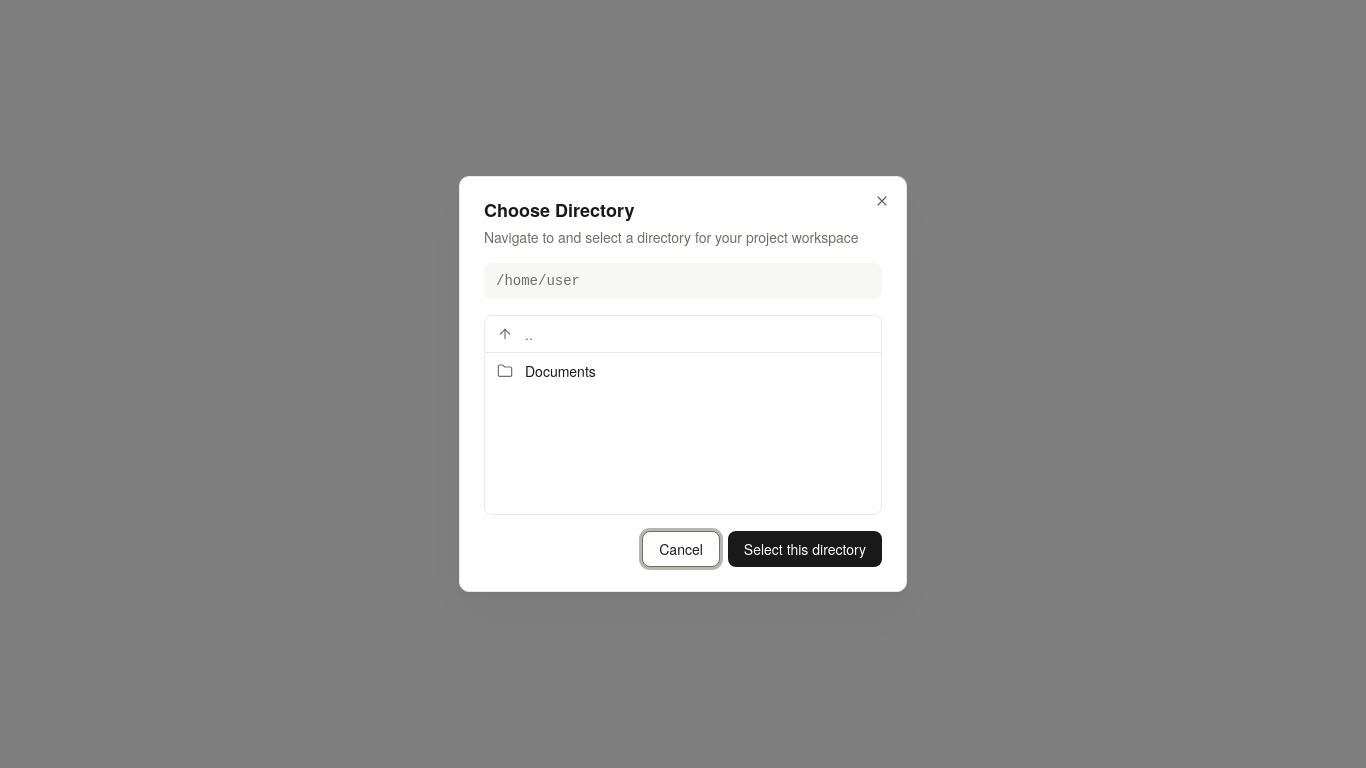
DirectoryBrowser › navigates into a directory on click
Click the button "Documents" at (560, 371), box top-left (485, 353), bottom-right (881, 389)
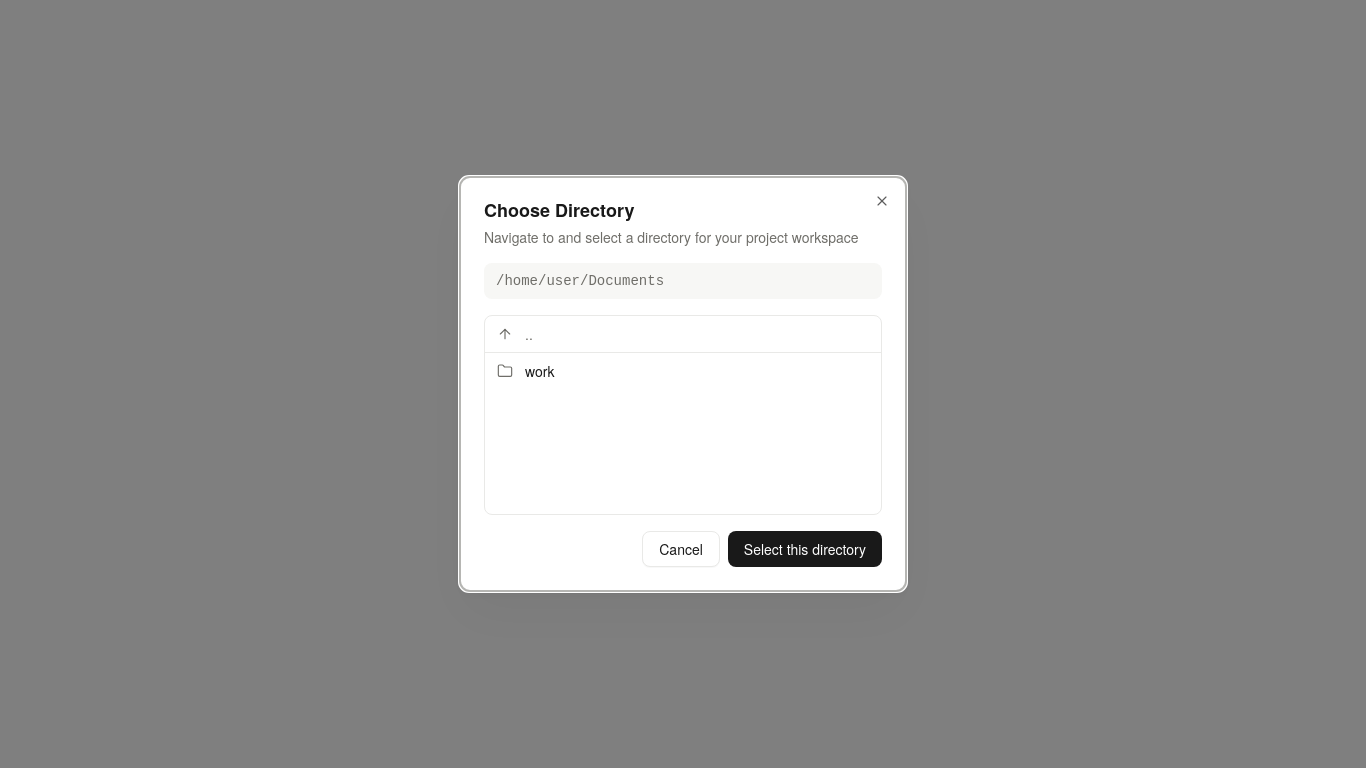
Now the text "work" is shown, box top-left (525, 361), bottom-right (554, 381)
